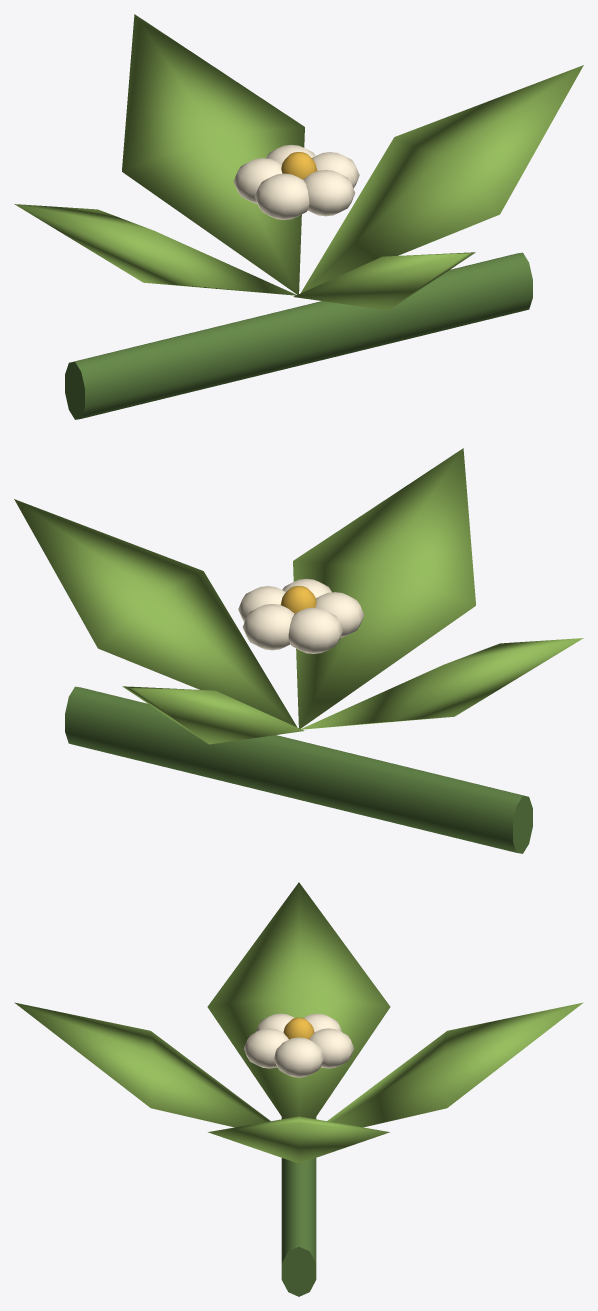
File: crop_7_stage_2.fbx
3 views of the same model, one above another, from view 1: azimuth 30°, elevation 25°; view 2: azimuth 150°, elevation 25°; view 3: azimuth 270°, elevation 25° (orthographic). The views are drawn at different scales.
Parts seen in each view (by area): view 1: crop_7_stage_2; view 2: crop_7_stage_2; view 3: crop_7_stage_2.
Part boxes in pixels (left/top/right/bottom): crop_7_stage_2: left=14, top=14, right=583, bottom=419; crop_7_stage_2: left=14, top=448, right=583, bottom=853; crop_7_stage_2: left=14, top=882, right=583, bottom=1296.
Bounding box in the file's own units: 0.84 × 0.325 × 0.84.
1 material, 1 textured.
